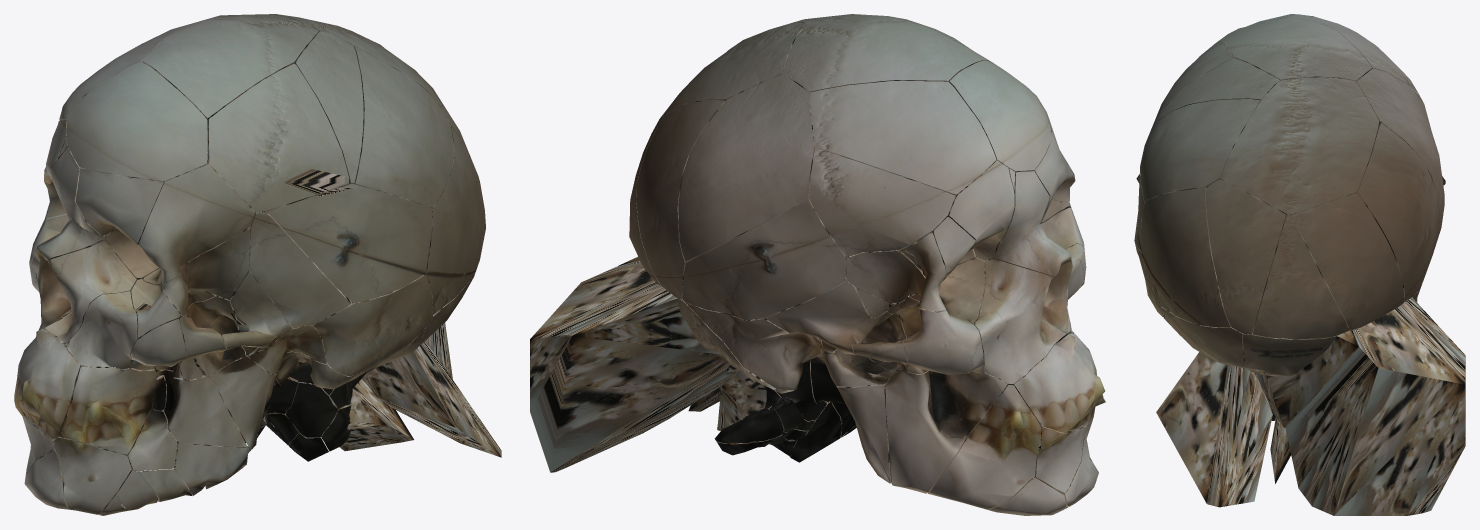
The model's file is Skull_Destroy.fbx.
The picture shows the model from 3 angles, left to right: view 1: azimuth 30°, elevation 25°; view 2: azimuth 150°, elevation 25°; view 3: azimuth 270°, elevation 25°; orthographic projection. The views are drawn at different scales.
Visible parts, largest first — view 1: Model_cell.133, Model_cell.207, Model_cell.219, Model_cell.171, Model_cell.118, Model_cell.159, Model_cell.183, Model_cell.213, Model_cell.117, Model_cell.185, Model_cell.170, Model_cell.176 (+38 smaller); view 2: Model_cell.212, Model_cell.129, Model_cell.108, Model_cell.188, Model_cell.118, Model_cell.193, Model_cell.216, Model_cell.155, Model_cell.102, Model_cell.203, Model_cell.219, Model_cell.208 (+29 smaller); view 3: Model_cell.212, Model_cell.189, Model_cell.213, Model_cell.179, Model_cell.117, Model_cell.155, Model_cell.153, Model_cell.171, Model_cell.118, Model_cell.149, Model_cell.129, Model_cell.124 (+8 smaller).
Boxes of the visible parts, left/top/right/bottom form: Model_cell.133: left=208, top=64, right=348, bottom=211; Model_cell.207: left=267, top=184, right=432, bottom=303; Model_cell.219: left=66, top=62, right=209, bottom=180; Model_cell.171: left=348, top=46, right=454, bottom=207; Model_cell.118: left=142, top=14, right=318, bottom=137; Model_cell.159: left=136, top=155, right=255, bottom=283; Model_cell.183: left=313, top=273, right=432, bottom=376; Model_cell.213: left=362, top=340, right=501, bottom=457; Model_cell.117: left=426, top=126, right=485, bottom=314; Model_cell.185: left=57, top=365, right=156, bottom=454; Model_cell.170: left=249, top=211, right=350, bottom=328; Model_cell.176: left=295, top=31, right=363, bottom=183; Model_cell.212: left=530, top=260, right=740, bottom=472; Model_cell.129: left=678, top=74, right=820, bottom=261; Model_cell.108: left=809, top=81, right=996, bottom=194; Model_cell.188: left=682, top=198, right=845, bottom=320; Model_cell.118: left=783, top=15, right=988, bottom=93; Model_cell.193: left=809, top=147, right=955, bottom=256; Model_cell.216: left=885, top=365, right=1007, bottom=493; Model_cell.155: left=636, top=99, right=724, bottom=299; Model_cell.102: left=927, top=385, right=1041, bottom=509; Model_cell.203: left=975, top=259, right=1066, bottom=383; Model_cell.219: left=949, top=60, right=1051, bottom=171; Model_cell.208: left=1014, top=333, right=1105, bottom=433; Model_cell.212: left=1285, top=297, right=1465, bottom=515; Model_cell.189: left=1221, top=77, right=1379, bottom=216; Model_cell.213: left=1156, top=352, right=1272, bottom=507; Model_cell.179: left=1291, top=193, right=1404, bottom=330; Model_cell.117: left=1141, top=187, right=1230, bottom=327; Model_cell.155: left=1354, top=123, right=1439, bottom=301; Model_cell.153: left=1205, top=179, right=1286, bottom=334; Model_cell.171: left=1140, top=99, right=1260, bottom=202; Model_cell.118: left=1221, top=15, right=1372, bottom=81; Model_cell.149: left=1252, top=215, right=1349, bottom=338; Model_cell.129: left=1356, top=68, right=1444, bottom=241; Model_cell.124: left=1255, top=317, right=1358, bottom=427.
Size of the model in its own units: 116 by 106 by 84.13.
